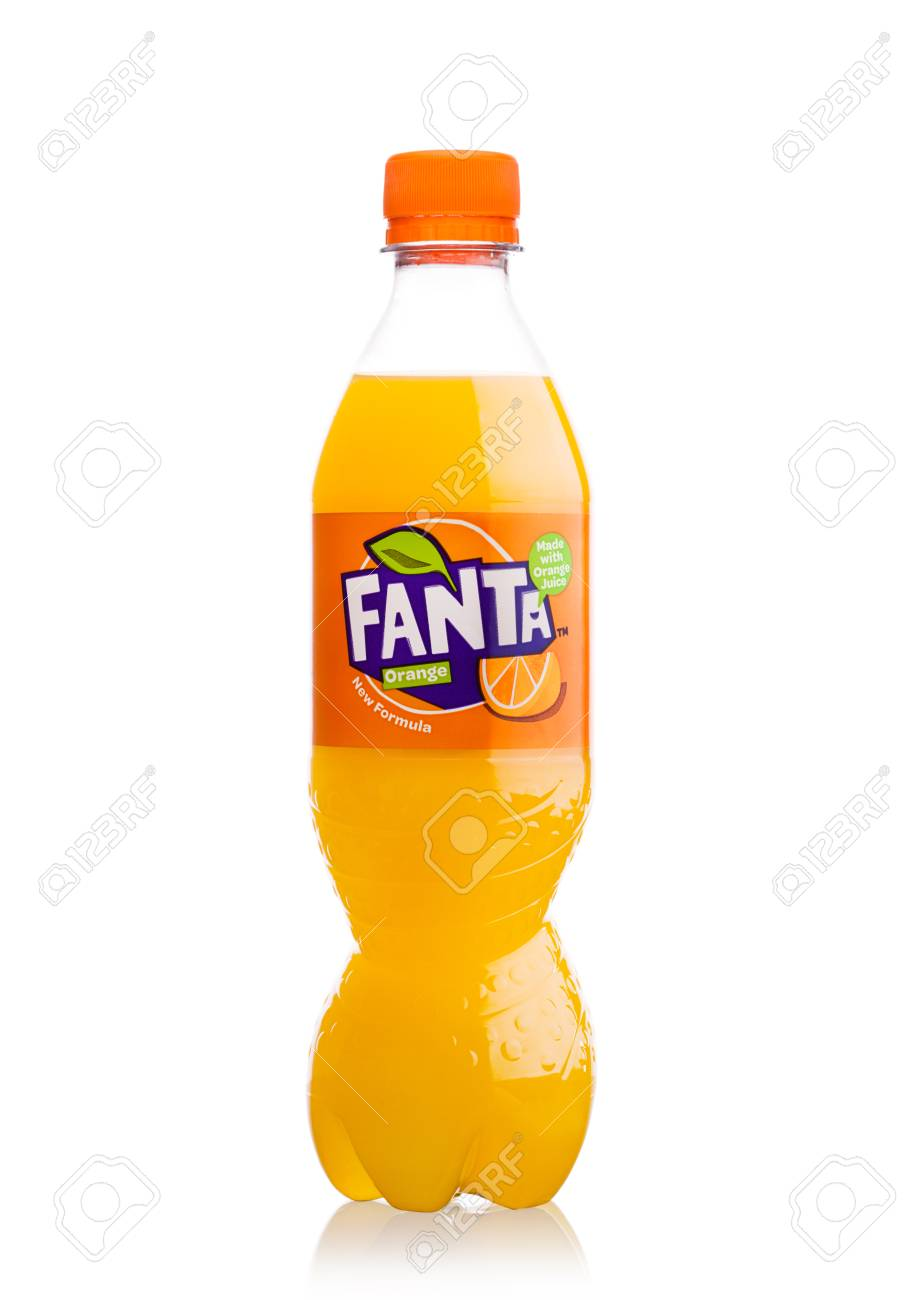fanta_bottle: (313, 147, 597, 1218)
